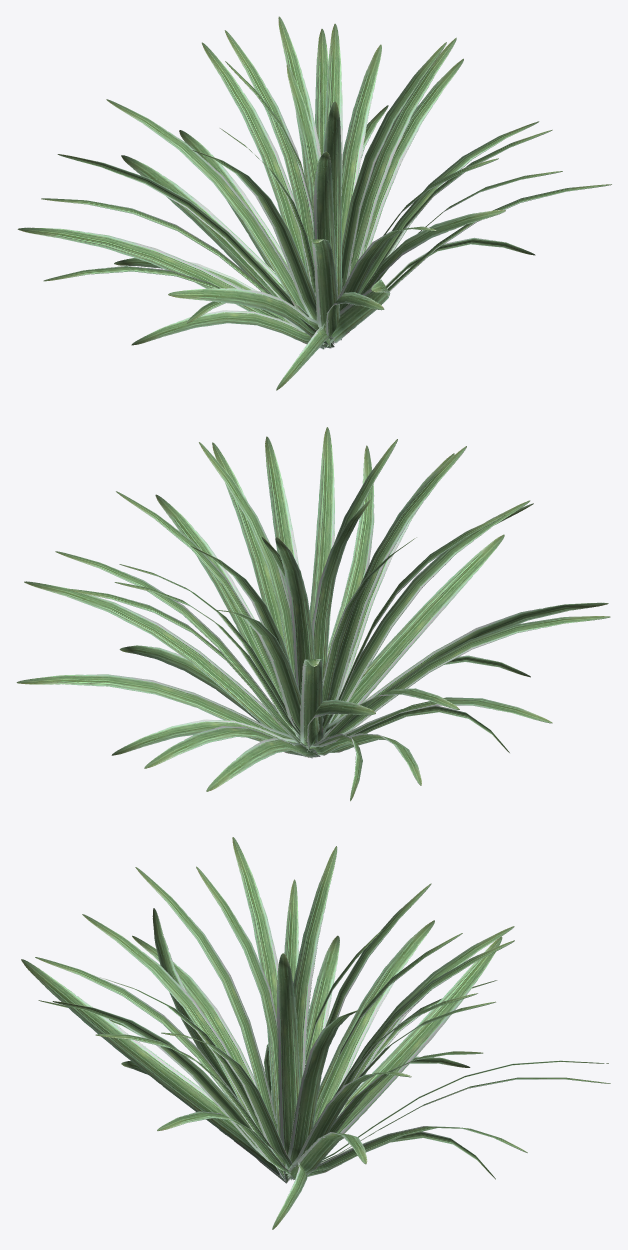
The model's file is kichijousou_nocolor.fbx.
The picture shows the model from 3 angles, top to bottom: view 1: azimuth 30°, elevation 25°; view 2: azimuth 150°, elevation 25°; view 3: azimuth 270°, elevation 25°; orthographic projection. The views are drawn at different scales.
Visible parts, largest first — view 1: 6842.100; view 2: 6842.100; view 3: 6842.100.
Boxes of the visible parts, bbox=[...] form: 6842.100: bbox=[17, 16, 611, 390]; 6842.100: bbox=[16, 427, 610, 801]; 6842.100: bbox=[21, 837, 610, 1229].
Bounding box in the file's own units: 0.4782 × 0.2577 × 0.4733.
Materials: 1 (1 with a texture image).
